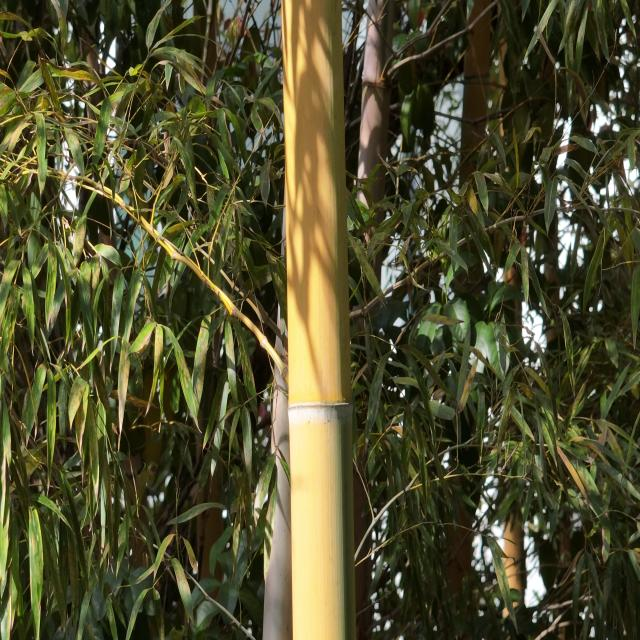Bamboo-shoots: (281, 0, 357, 640)
